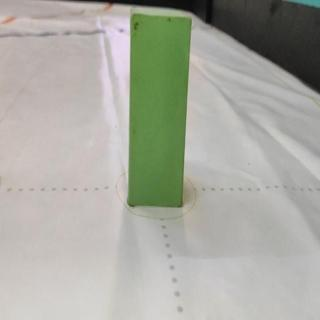greenbox: (126, 5, 193, 208)
